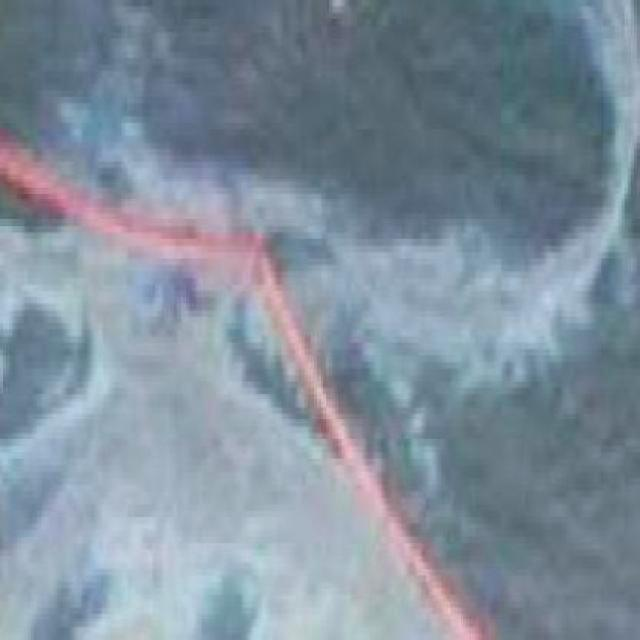oil: (12, 99, 470, 640), (487, 9, 638, 397)
